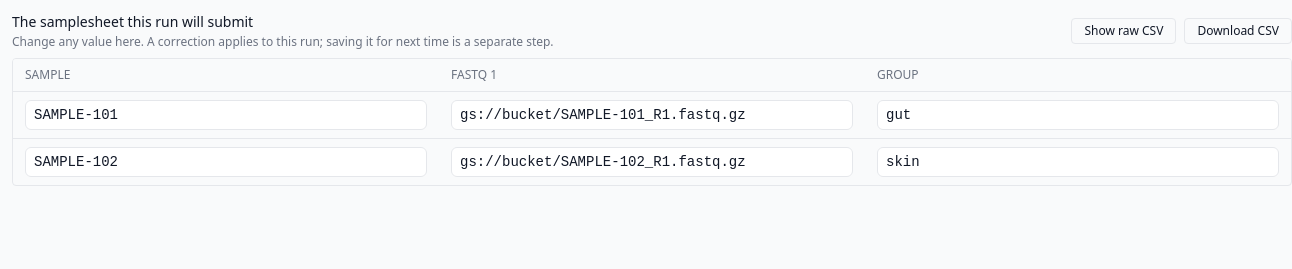
Scenario: the sheet the run would submit › keeps the raw file behind a button for whoever wants it
Check: the text "sample,fastq_1,group" is not shown
Click the button "Show raw CSV": [1124, 31] box [1072, 18, 1176, 44]
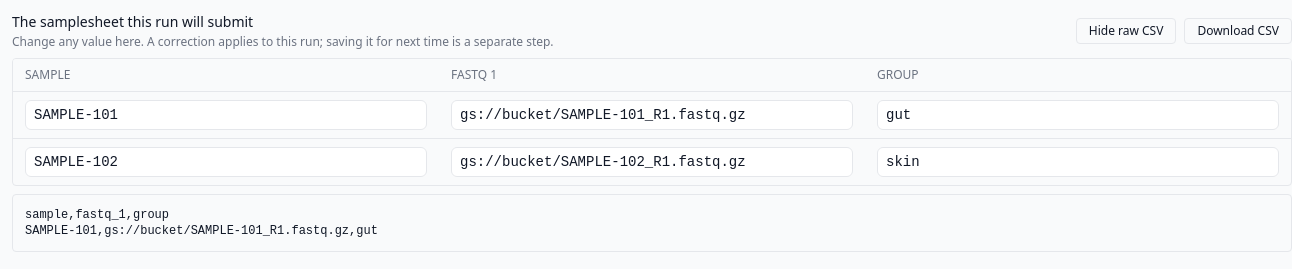
Check: the text "sample,fastq_1,group" is shown, box [25, 208, 378, 238]
